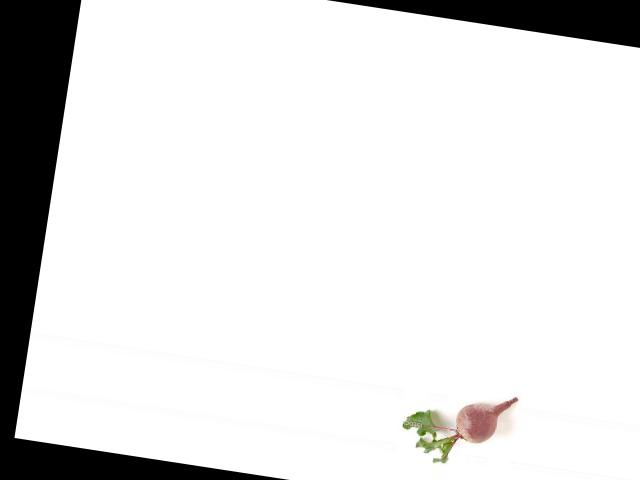beet: (397, 380, 517, 473)
